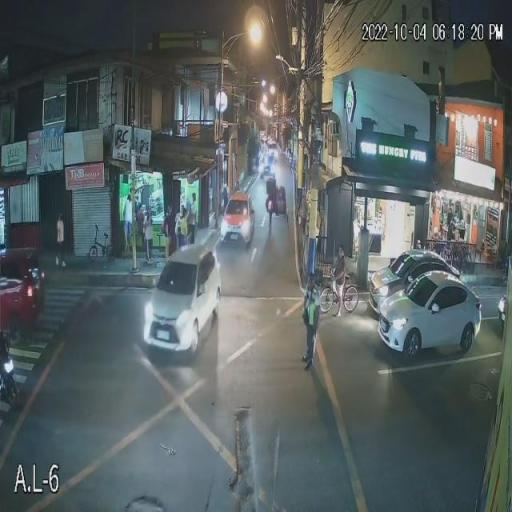motorcycle: (0, 346, 18, 411)
rider: (330, 244, 348, 310)
